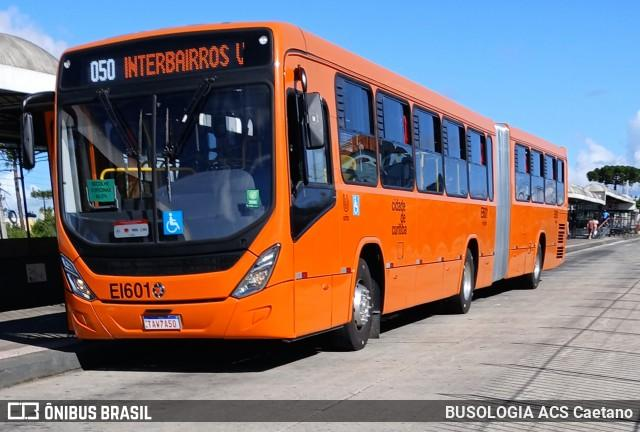INTERBAIRROS V: (117, 39, 251, 82)
